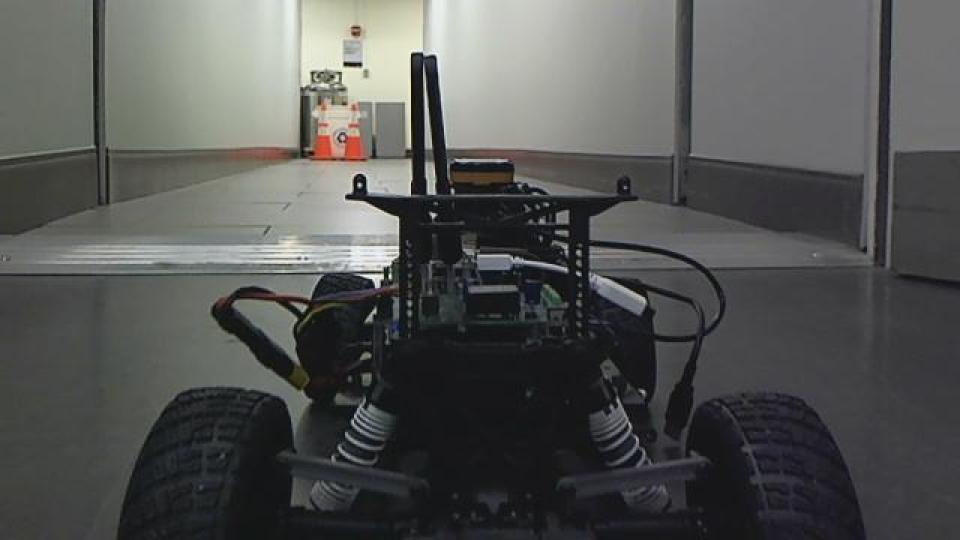car: (113, 49, 869, 537)
